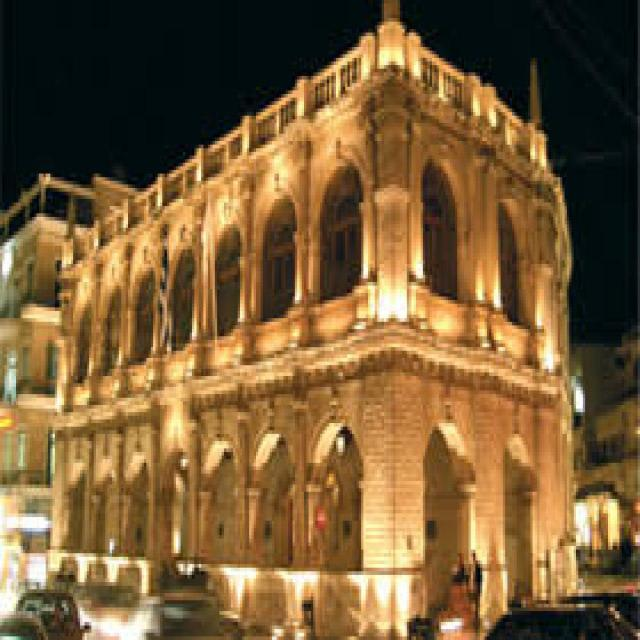Loggia: (57, 1, 583, 639)
